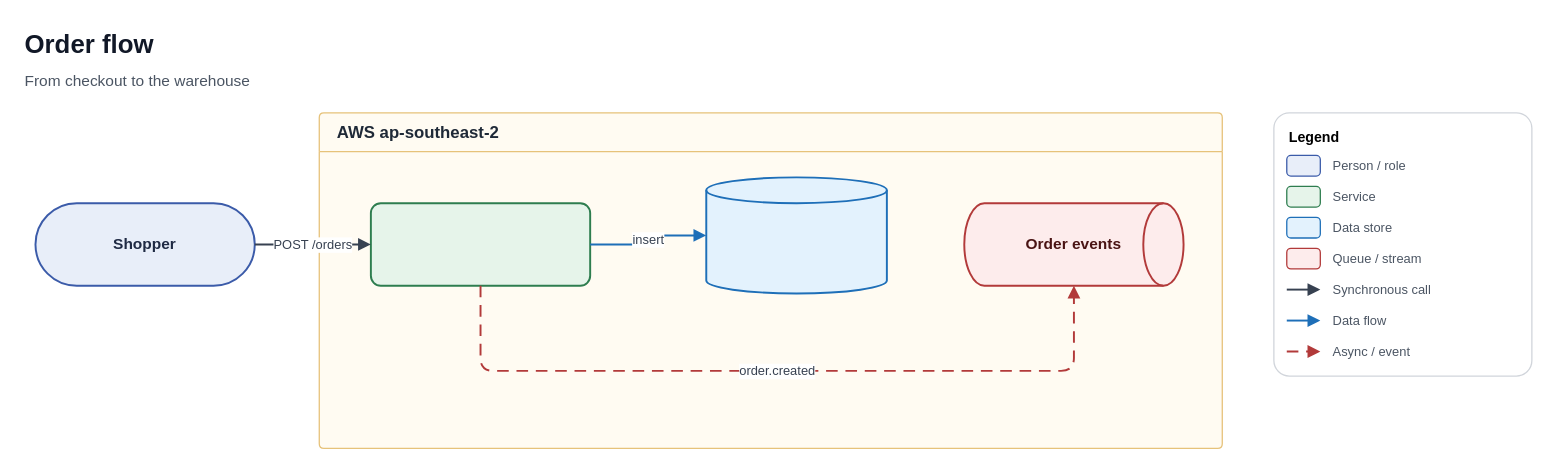
Some shapes in this 1566 by 471 pixel diagram are drawn without their labels. The centre of each missing label's shape, as x and y in pixels:
Orders API Node 24 on ECS: (x=480, y=244)
Postgres: (x=796, y=235)
